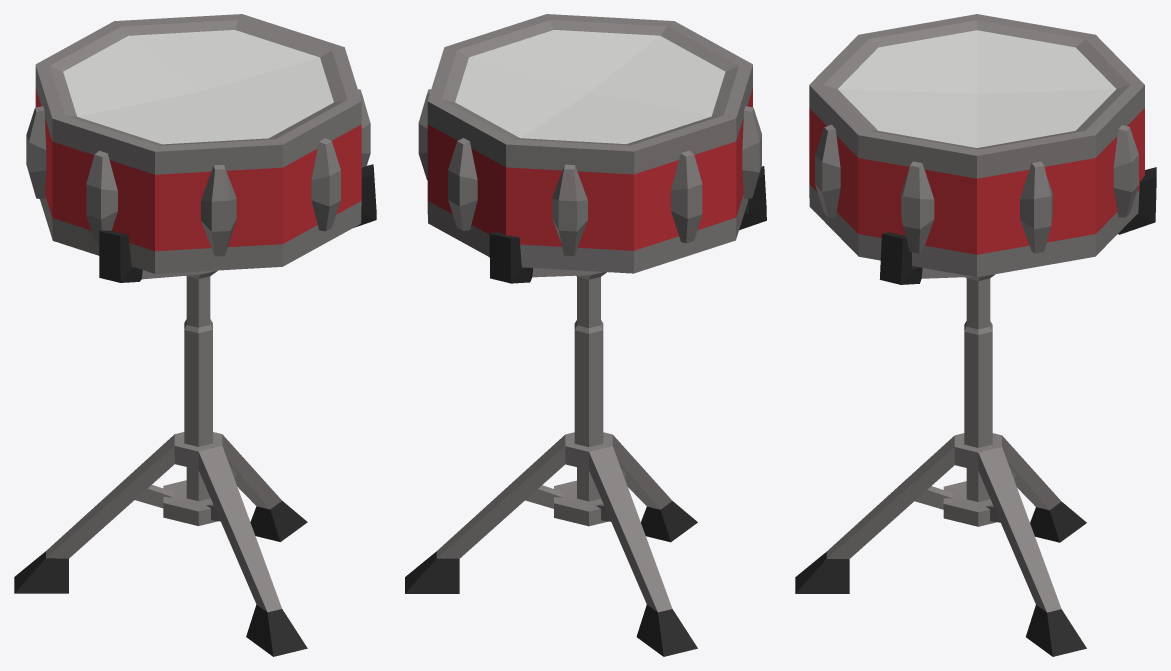
The model's file is music_drum-snare.fbx.
3 renders of one model, left to right at view 1: azimuth 30°, elevation 25°; view 2: azimuth 150°, elevation 25°; view 3: azimuth 270°, elevation 25°, orthographic.
Parts seen in each view (by area): view 1: music_drum_snare; view 2: music_drum_snare; view 3: music_drum_snare.
Part boxes in pixels (x1,y1,x2,y2): music_drum_snare: (14, 14, 376, 656); music_drum_snare: (405, 14, 766, 656); music_drum_snare: (795, 14, 1156, 656).
Size of the model in its own units: 122 by 200 by 131.
